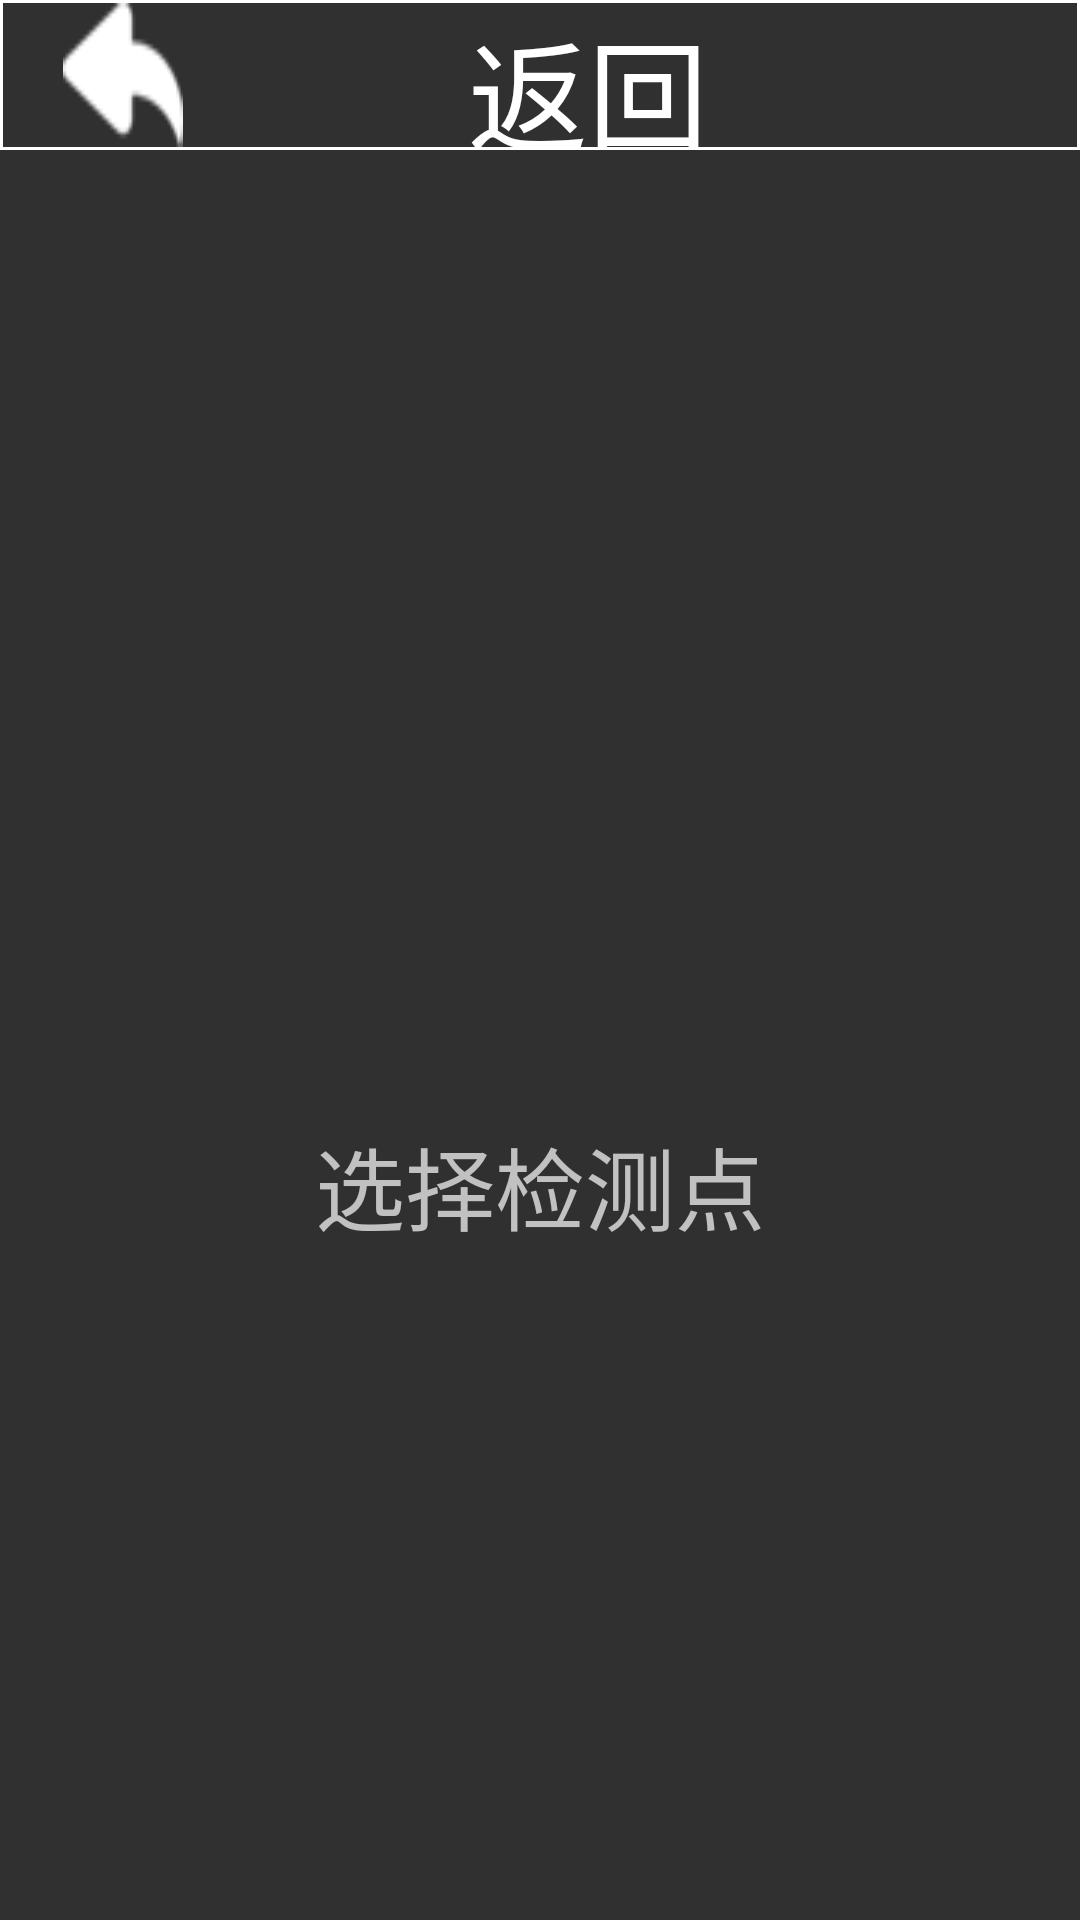

Icon bounding boxes for this 1080 x 1920 phone screenshot, format (x1, y1, x2, y2):
fanhui: (63, 3, 183, 147)
